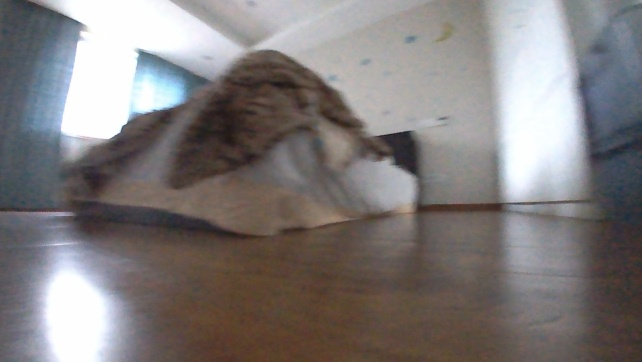bed: (62, 47, 425, 237)
